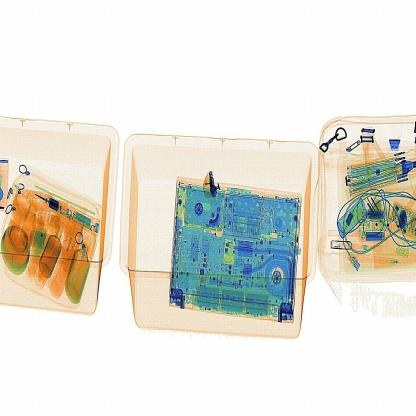pliers: (202, 170, 221, 203)
